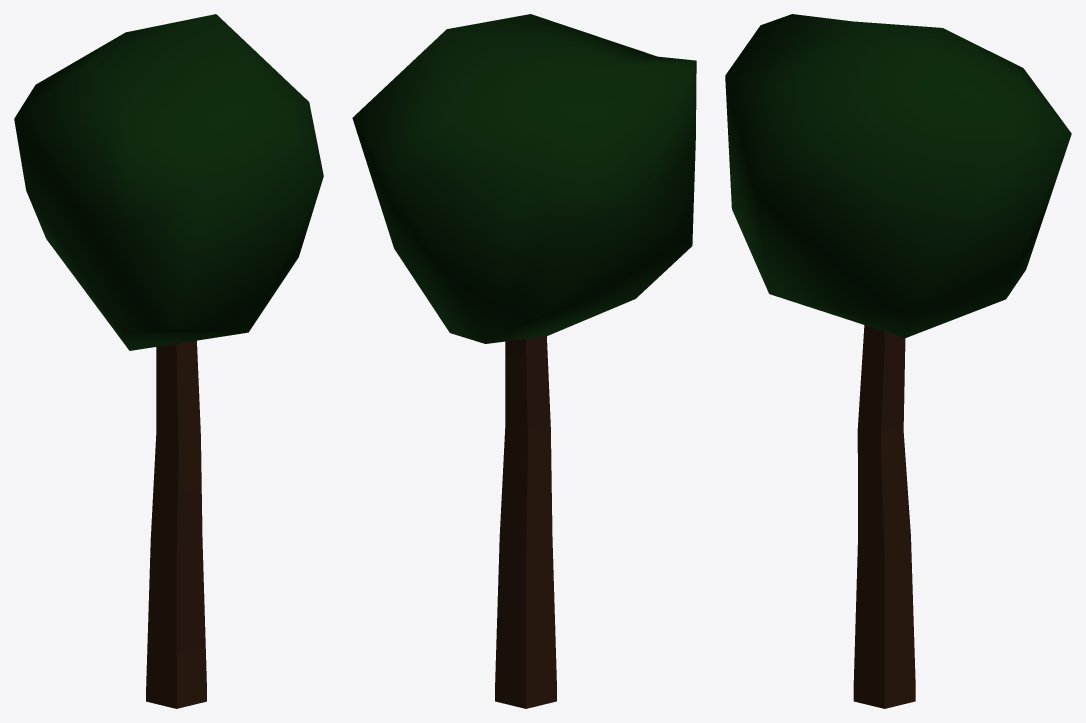
Rendered from Baum_1.fbx.
3 views of the same model, side by side, from view 1: azimuth 30°, elevation 25°; view 2: azimuth 150°, elevation 25°; view 3: azimuth 270°, elevation 25° (orthographic). The views are drawn at different scales.
Parts seen in each view (by area): view 1: Baumkrone, Baumstamm; view 2: Baumkrone, Baumstamm; view 3: Baumkrone, Baumstamm.
Boxes of the visible parts, bbox=[...] form: Baumkrone: bbox=[14, 14, 323, 350]; Baumstamm: bbox=[146, 340, 206, 708]; Baumkrone: bbox=[352, 14, 696, 343]; Baumstamm: bbox=[495, 336, 556, 708]; Baumkrone: bbox=[725, 14, 1071, 338]; Baumstamm: bbox=[853, 325, 915, 708].
Size of the model in its own units: 132 by 307 by 145.
